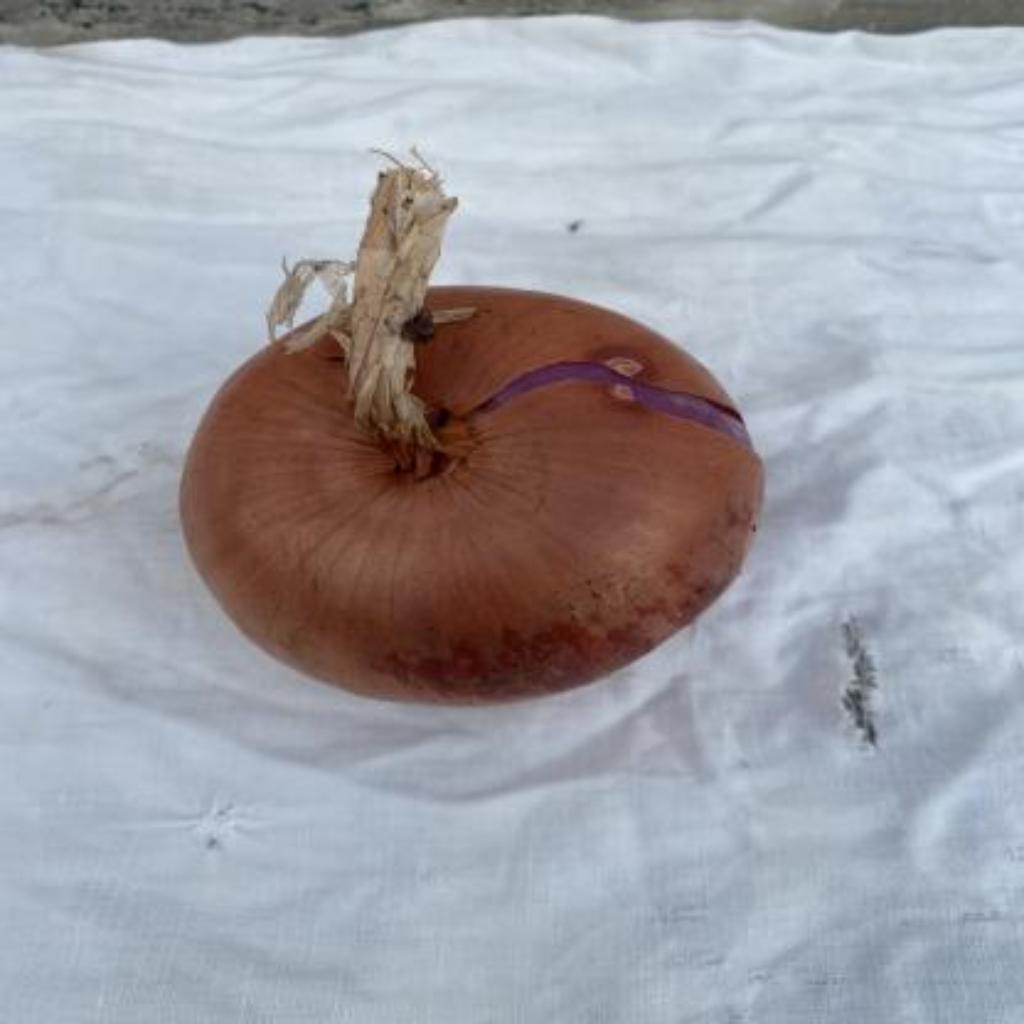Onion: (182, 160, 766, 703)
